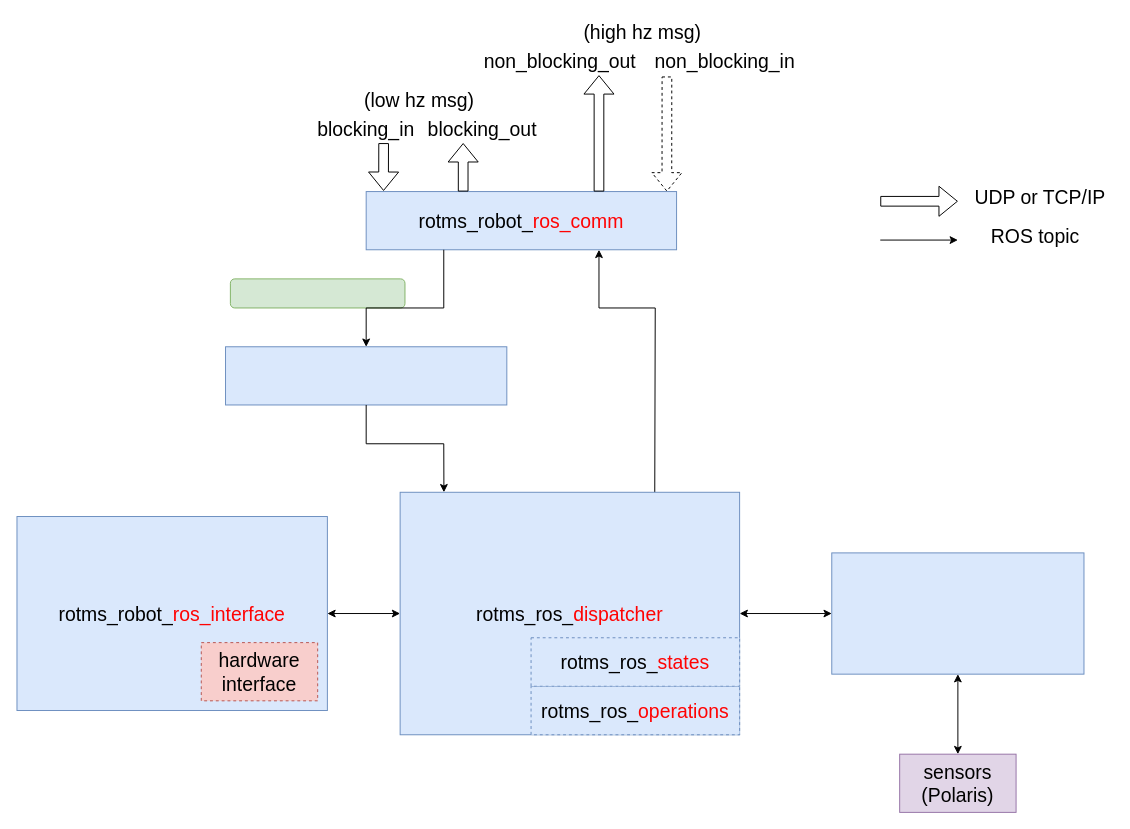
Image size: 1130x829. Some labels were removed from this diagram. The shapes that lost their labels are listed below. From the top down, each one's centre as x and y in pixels, then its label:
point 317,293: encoded msgs
point 366,375: rotms_robot_ ros_comm_decode
point 957,613: rotms_ros_ kinematics
